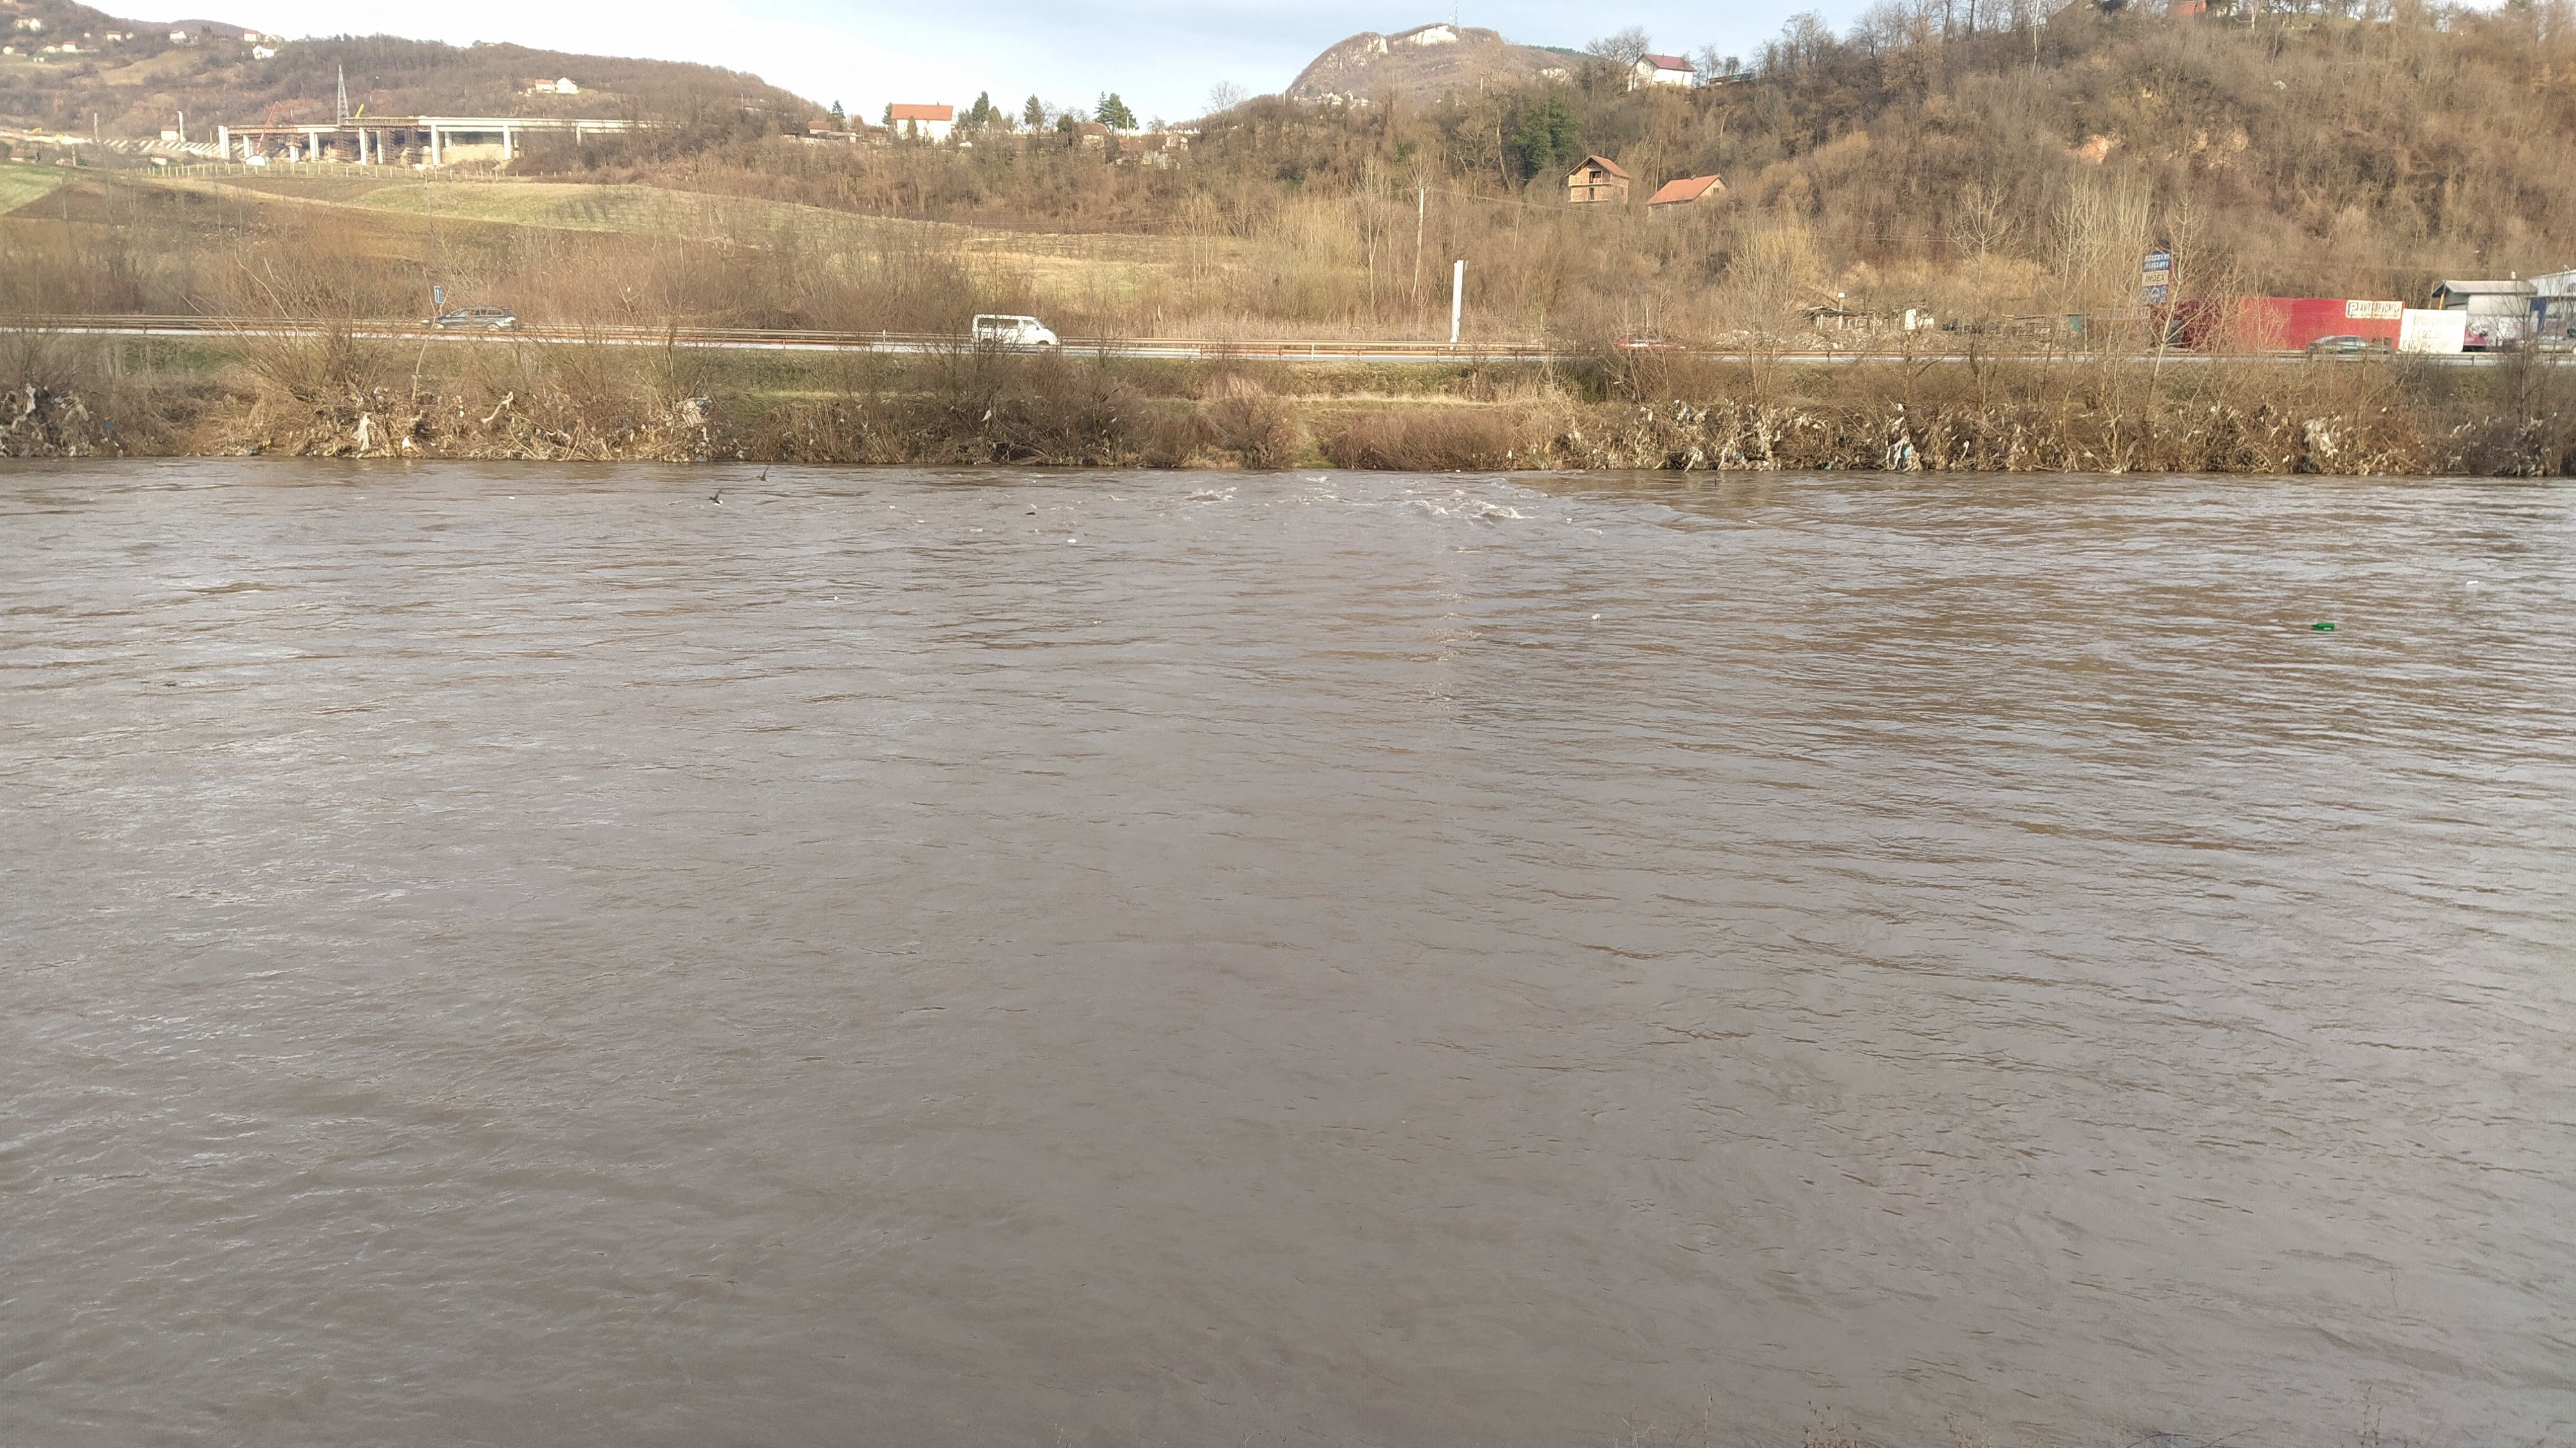Plastic Bottle: (2311, 623, 2335, 630), (2466, 579, 2479, 584), (1748, 519, 1757, 524), (970, 528, 982, 531), (1592, 614, 1599, 620), (508, 496, 517, 499), (916, 519, 925, 522), (1026, 512, 1035, 515), (1069, 538, 1076, 542), (890, 504, 893, 508), (1566, 519, 1571, 520)
